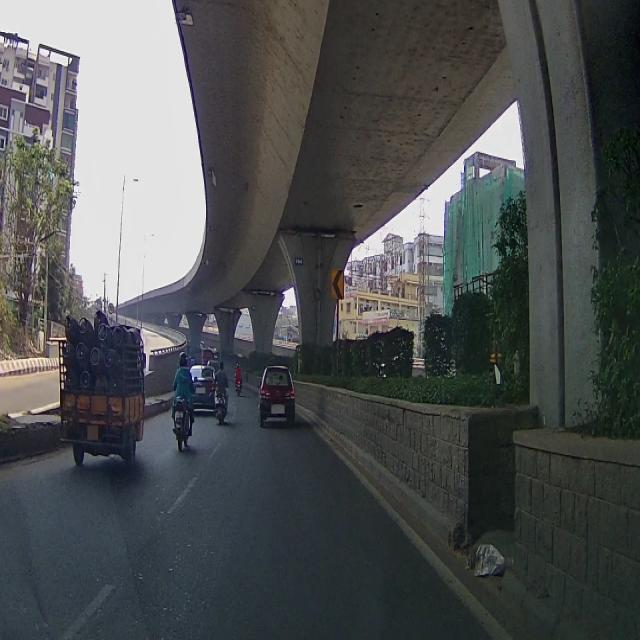car ahead at: (258, 358, 297, 431)
motorcycle ahead at: (167, 348, 198, 451)
truck ahead at: (54, 311, 147, 464)
